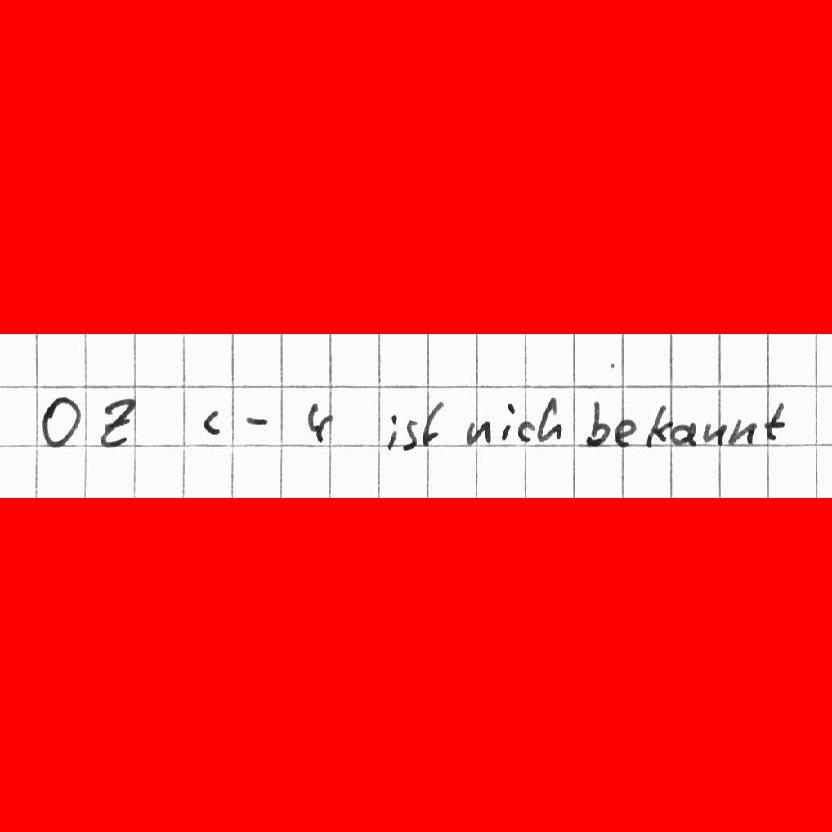Char: (37, 393, 84, 450), (96, 394, 138, 449), (304, 396, 336, 447), (419, 396, 447, 449), (536, 394, 564, 443), (583, 400, 612, 446), (645, 402, 671, 449), (727, 415, 760, 448), (762, 400, 787, 441), (241, 405, 274, 431), (669, 419, 698, 448), (199, 403, 222, 439), (612, 417, 638, 447), (464, 420, 492, 446), (384, 410, 401, 450), (400, 417, 419, 452), (501, 400, 516, 442), (701, 421, 725, 446), (516, 418, 535, 443)
